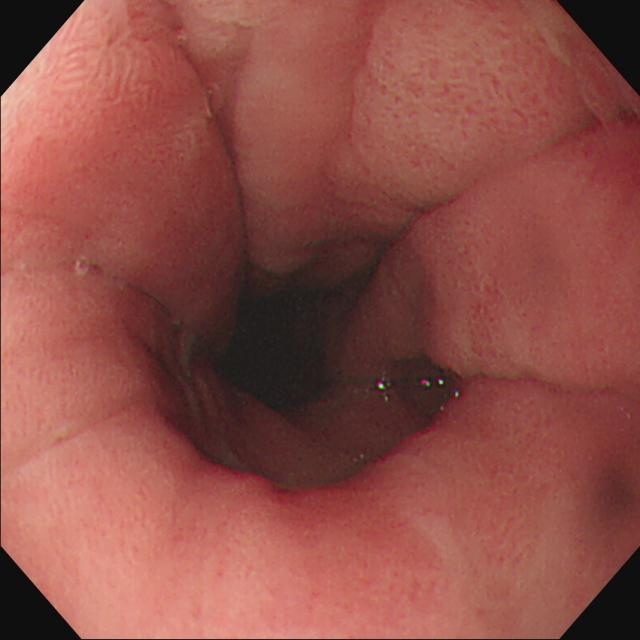A: (382, 13, 544, 169)
E: (227, 294, 332, 411)
